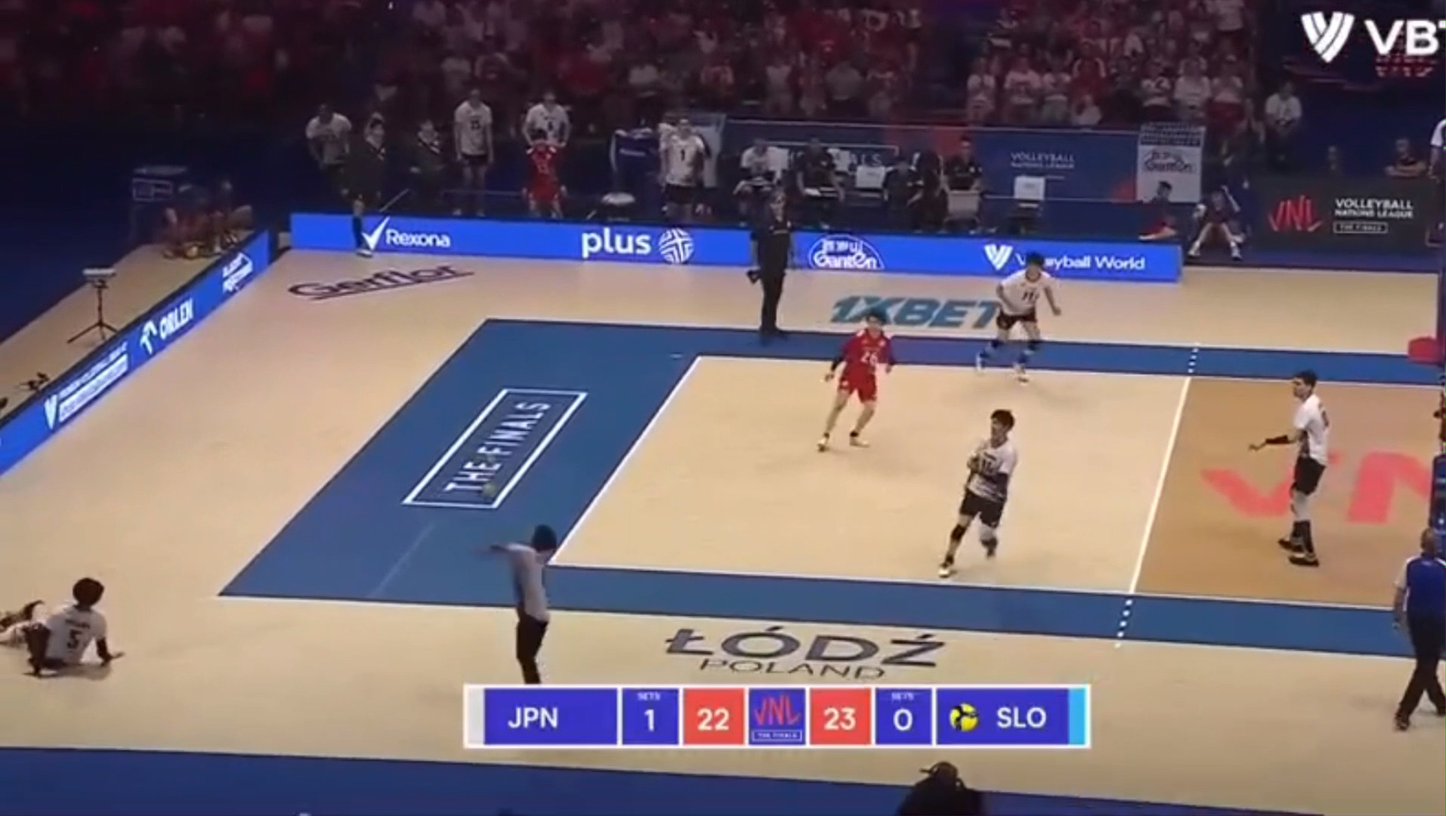ball: (480, 482, 497, 497)
player 1: (1250, 371, 1329, 565), (938, 409, 1018, 578), (0, 577, 119, 675), (975, 252, 1061, 382), (490, 525, 558, 684), (817, 310, 894, 450)
referee: (1392, 527, 1445, 730), (747, 190, 793, 342)
